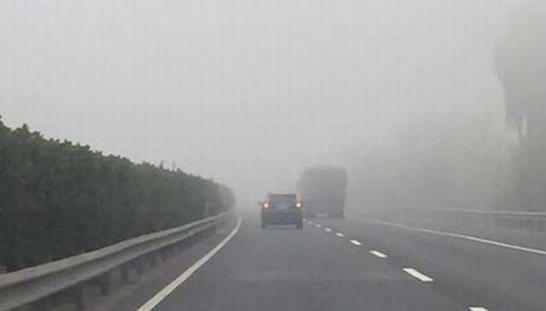bus: (296, 167, 348, 219)
car: (258, 192, 305, 230)
